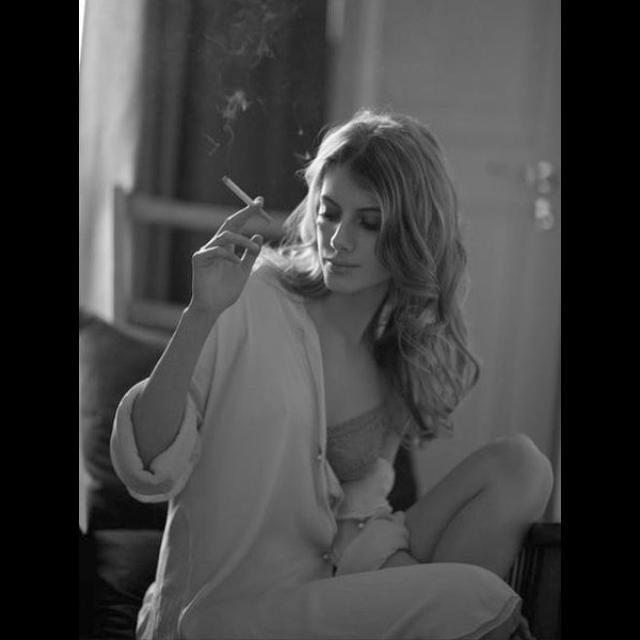rokok: (218, 176, 274, 227)
